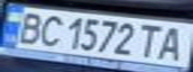1: (60, 15, 84, 51)
2: (115, 19, 142, 57)
5: (78, 16, 103, 52)
7: (96, 18, 121, 54)
A: (151, 25, 190, 62)
B: (9, 9, 48, 44)
C: (33, 12, 66, 47)
T: (133, 21, 166, 60)
